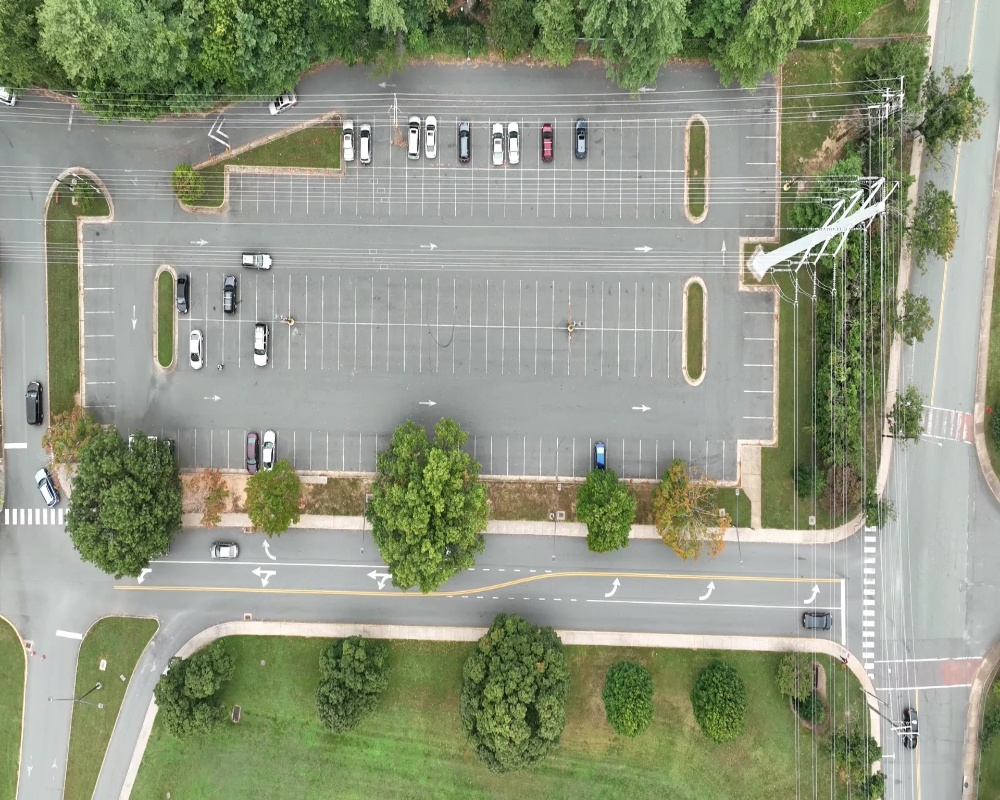car: (797, 607, 841, 635), (32, 467, 60, 509), (23, 379, 44, 428), (251, 321, 269, 372), (422, 113, 440, 162), (187, 327, 206, 373), (339, 119, 358, 165), (356, 121, 375, 166), (221, 272, 239, 317), (206, 540, 242, 562), (242, 429, 260, 473), (174, 272, 191, 318), (489, 119, 505, 167), (456, 118, 472, 165), (589, 439, 611, 472), (506, 119, 521, 167), (239, 252, 273, 272), (539, 122, 555, 164), (407, 113, 421, 161), (262, 430, 277, 473), (574, 115, 587, 158)
tree: (13, 3, 800, 94), (780, 86, 901, 532), (365, 409, 493, 593), (461, 609, 577, 777), (61, 432, 181, 581), (306, 632, 401, 736), (646, 458, 736, 561), (565, 467, 642, 560), (597, 654, 664, 745), (152, 657, 229, 736), (691, 657, 749, 745)
